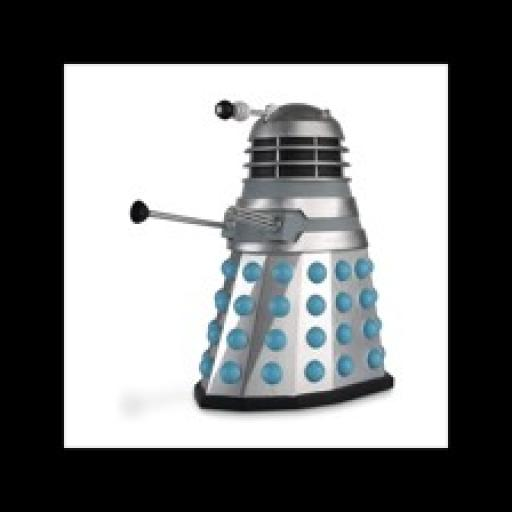dalek: (121, 85, 403, 409)
